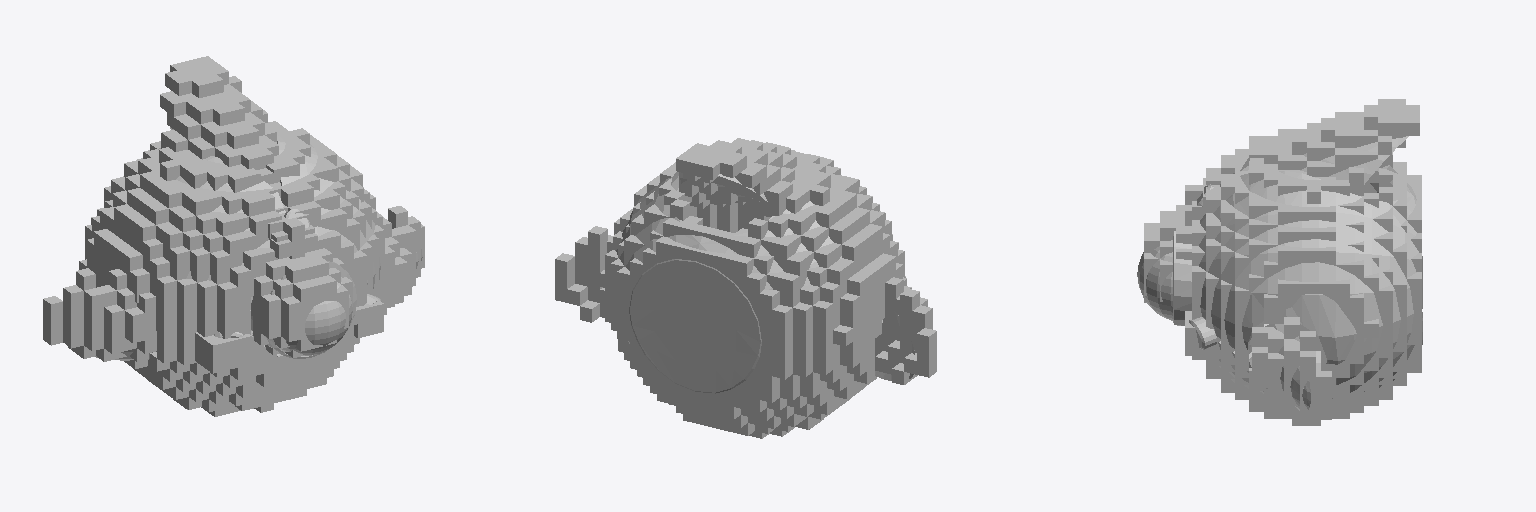
Rendered from Minion_v01.obj.
3 renders of one model, left to right at view 1: azimuth 30°, elevation 25°; view 2: azimuth 150°, elevation 25°; view 3: azimuth 270°, elevation 25°, orthographic.
Visible parts, largest first — view 1: _Combined Mesh [ExportedObjects_Body], _Combined Mesh [ExportedObjects_AsaLateral], _Combined Mesh [ExportedObjects_AsaSUperior], _Combined Mesh [ExportedObjects_Meio], body_mesh, eye_mesh, eye_ring; view 2: _Combined Mesh [ExportedObjects_Body], body_mesh, _Combined Mesh [ExportedObjects_AsaLateral], _Combined Mesh [ExportedObjects_AsaSUperior]; view 3: _Combined Mesh [ExportedObjects_Body], body_mesh, _Combined Mesh [ExportedObjects_AsaSUperior], _Combined Mesh [ExportedObjects_AsaLateral], _Combined Mesh [ExportedObjects_Meio], eye_mesh, eye_ring, polySurface9, polySurface10.
Part boxes in pixels (bbox=[...]): _Combined Mesh [ExportedObjects_Body]: bbox=[79, 121, 384, 416]; _Combined Mesh [ExportedObjects_AsaLateral]: bbox=[43, 206, 424, 361]; _Combined Mesh [ExportedObjects_AsaSUperior]: bbox=[160, 56, 278, 184]; _Combined Mesh [ExportedObjects_Meio]: bbox=[253, 248, 352, 357]; body_mesh: bbox=[168, 135, 380, 356]; eye_mesh: bbox=[273, 278, 352, 355]; eye_ring: bbox=[251, 261, 356, 358]; _Combined Mesh [ExportedObjects_Body]: bbox=[600, 150, 905, 438]; body_mesh: bbox=[616, 172, 841, 393]; _Combined Mesh [ExportedObjects_AsaLateral]: bbox=[555, 226, 936, 384]; _Combined Mesh [ExportedObjects_AsaSUperior]: bbox=[676, 138, 796, 216]; _Combined Mesh [ExportedObjects_Body]: bbox=[1185, 123, 1421, 425]; body_mesh: bbox=[1199, 158, 1422, 398]; _Combined Mesh [ExportedObjects_AsaSUperior]: bbox=[1250, 99, 1419, 195]; _Combined Mesh [ExportedObjects_AsaLateral]: bbox=[1252, 317, 1331, 419]; _Combined Mesh [ExportedObjects_Meio]: bbox=[1144, 205, 1191, 302]; eye_mesh: bbox=[1137, 240, 1172, 320]; eye_ring: bbox=[1173, 231, 1191, 325]; polySurface9: bbox=[1300, 136, 1408, 184]; polySurface10: bbox=[1265, 324, 1310, 410].
Size of the model in its own units: 1.46 by 1.07 by 0.9676.